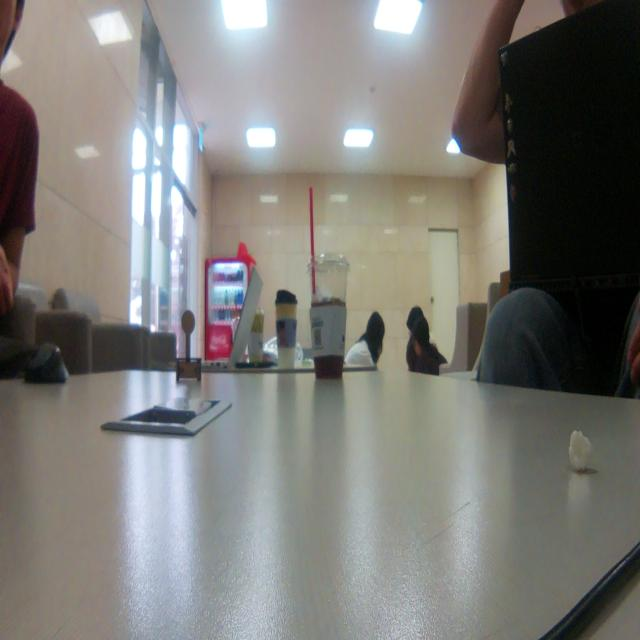target: (176, 308, 202, 383)
